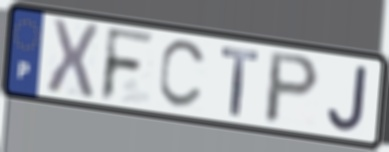C: (156, 38, 210, 112)
F: (98, 24, 157, 105)
J: (325, 63, 371, 135)
P: (261, 50, 323, 127)
T: (219, 45, 260, 119)
X: (44, 16, 101, 101)
